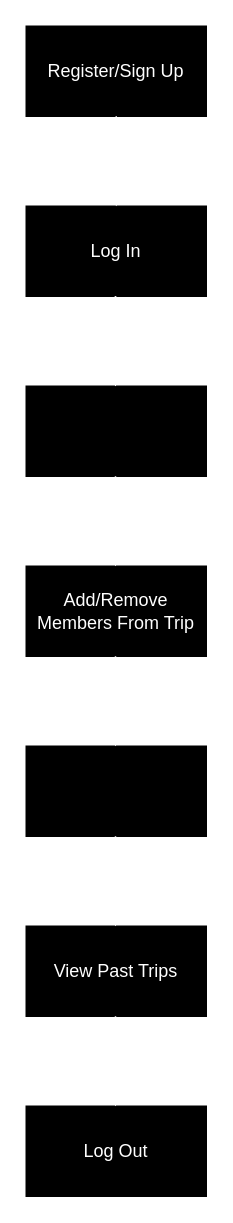
Image size: 233x1223. Some labels were removed from this diagram. The centre of each missing label's shape, as x and y in pixels:
"Create New Trip" goes at point 115,430.
"View Ongoing Trip" goes at point 115,790.
